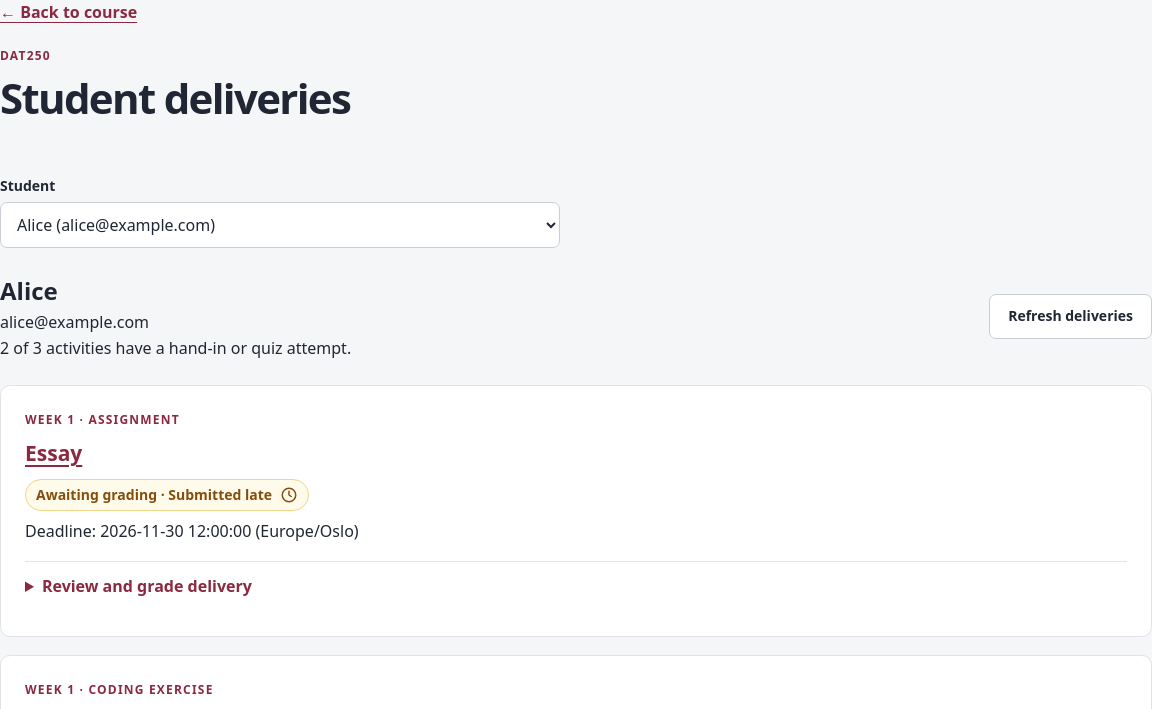
Test: Student deliveries › shows missing work, late hand-ins, quiz scores, downloads and grading controls
The width and height of the screenshot is (1152, 709).
Later steps or results of the test are not shown.
Expected: the text "Awaiting grading · Submitted late" is shown, [25,479,309,511]
Click the heading "Review and grade delivery": (147, 586) [42,575,252,597]
(page scrolled)
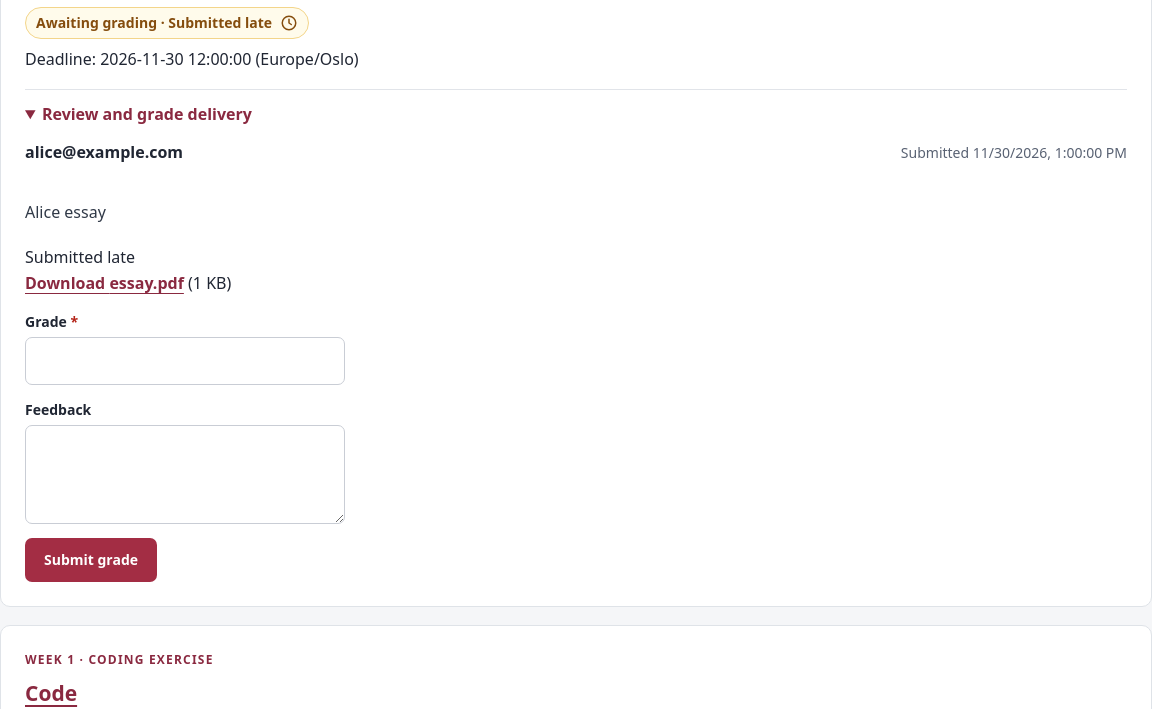
Now the text "Alice essay" is shown, box [25,201,106,223]
In the number field labelled "Grade *": (185, 361) [25,337,345,385], type "85"
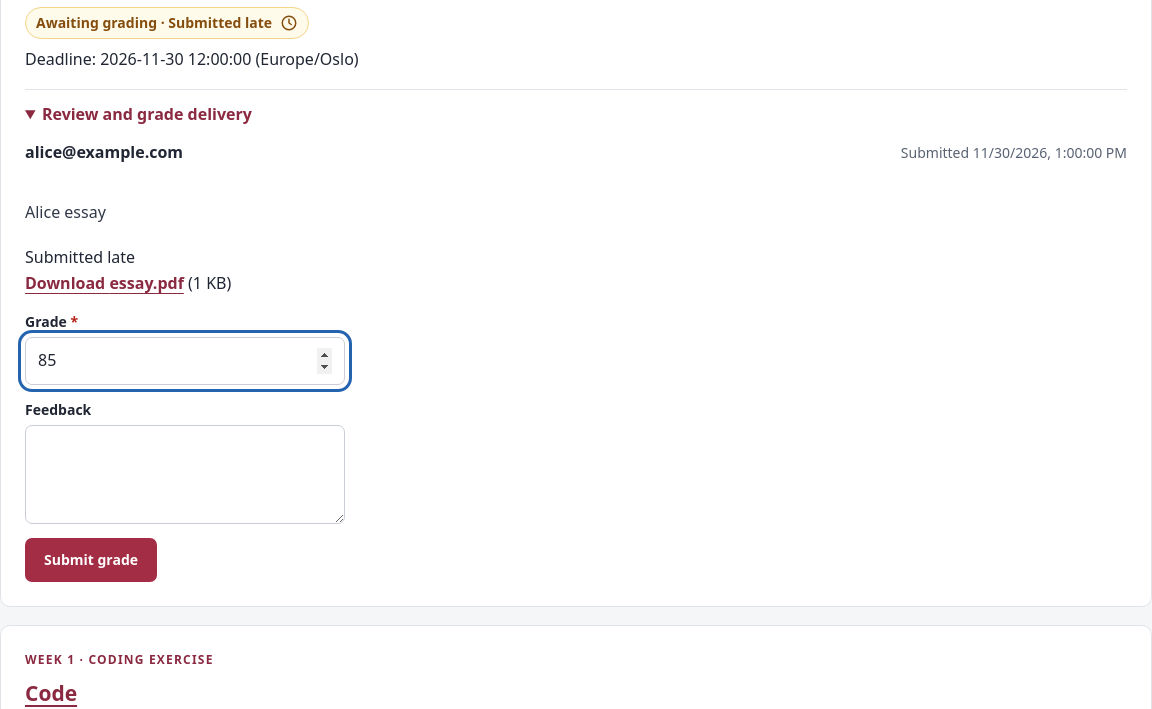
In the text box labelled "Feedback": (185, 474) [25,425,345,524], type "Good work"
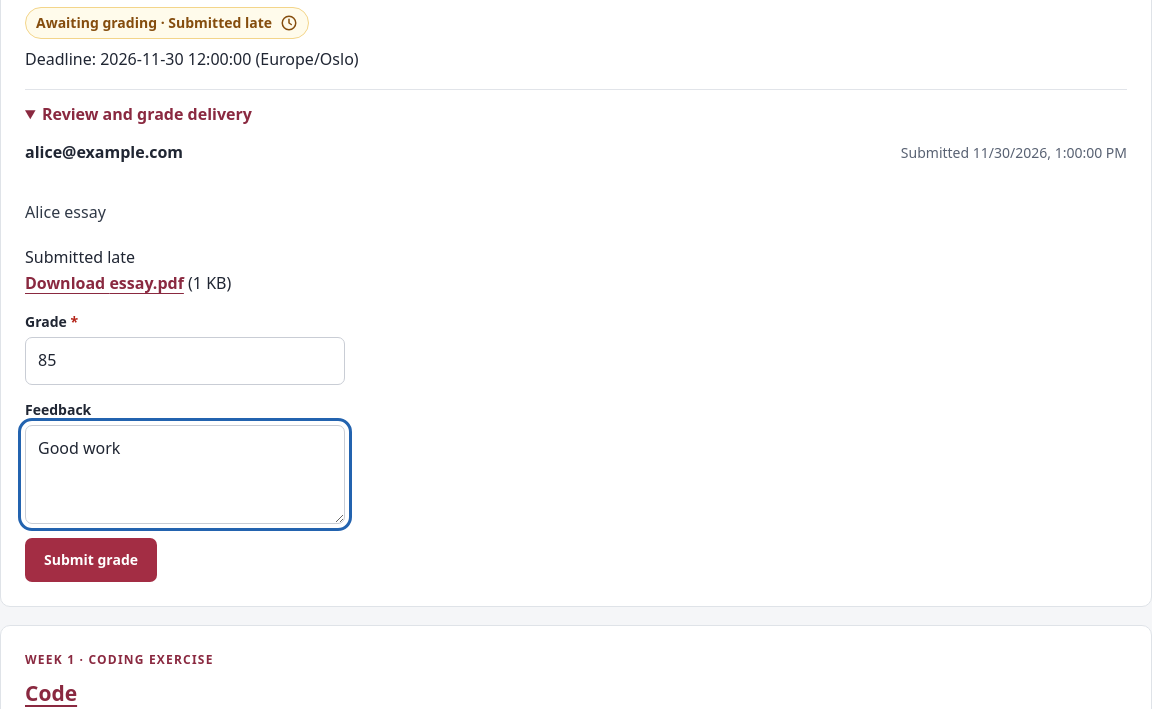
Click the button "Submit grade": (91, 560) [25,538,157,582]
(page scrolled)
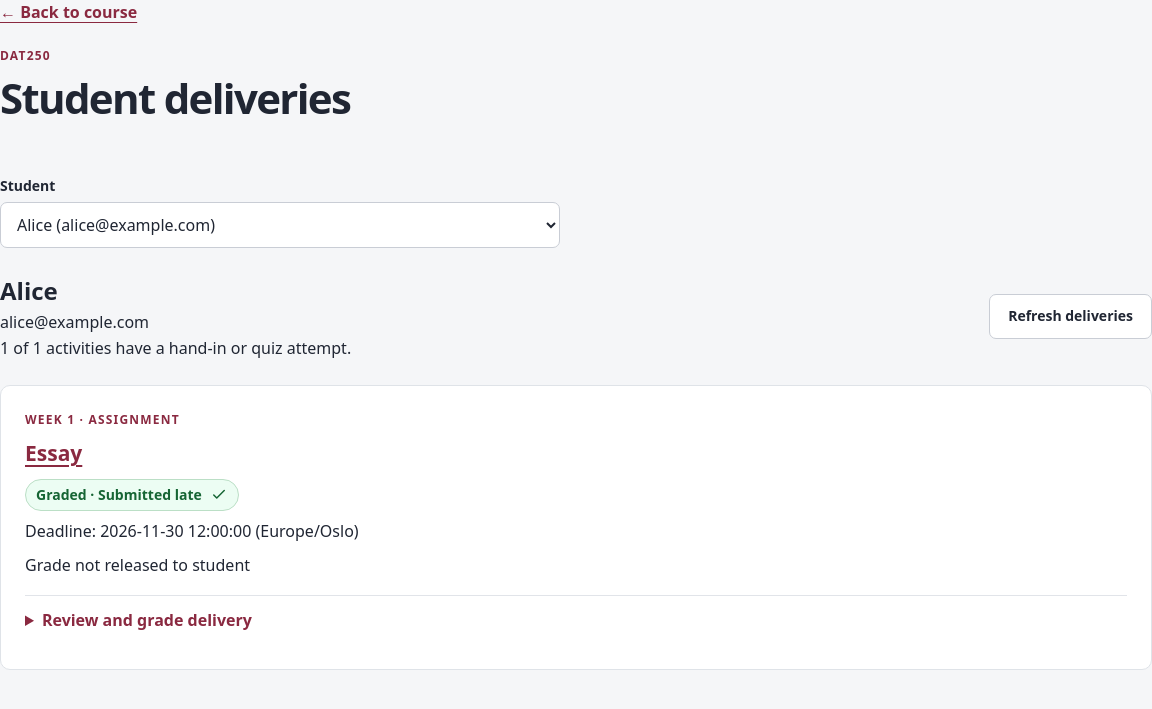
Now the text "Graded · Submitted late" is shown, box [25,479,239,511]
